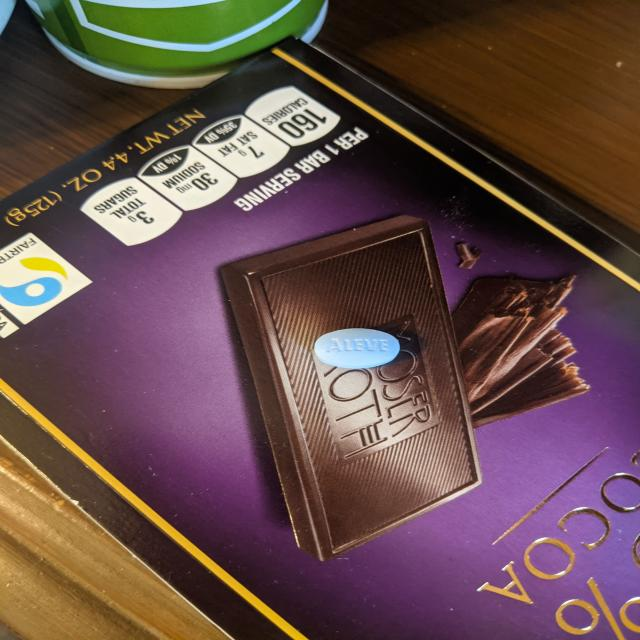non-organic waste: (314, 327, 401, 370)
